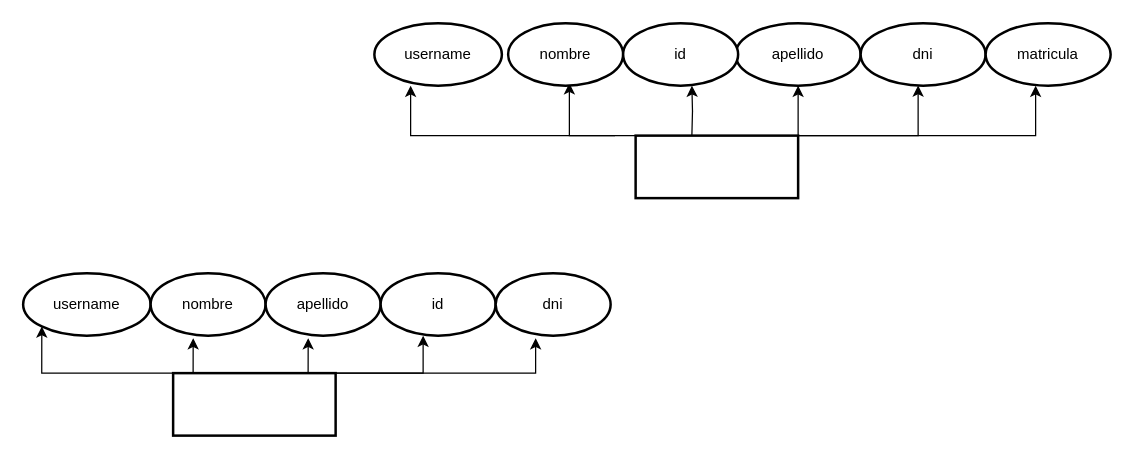
The diagram is 1133 pixels wide and 458 high, and some of its shapes have lost their labels. Here are the shapes that lost their labels. From the top down, the box of each, then its label:
(634, 134, 799, 199): se_registran_2020
(171, 371, 336, 436): alumnos
